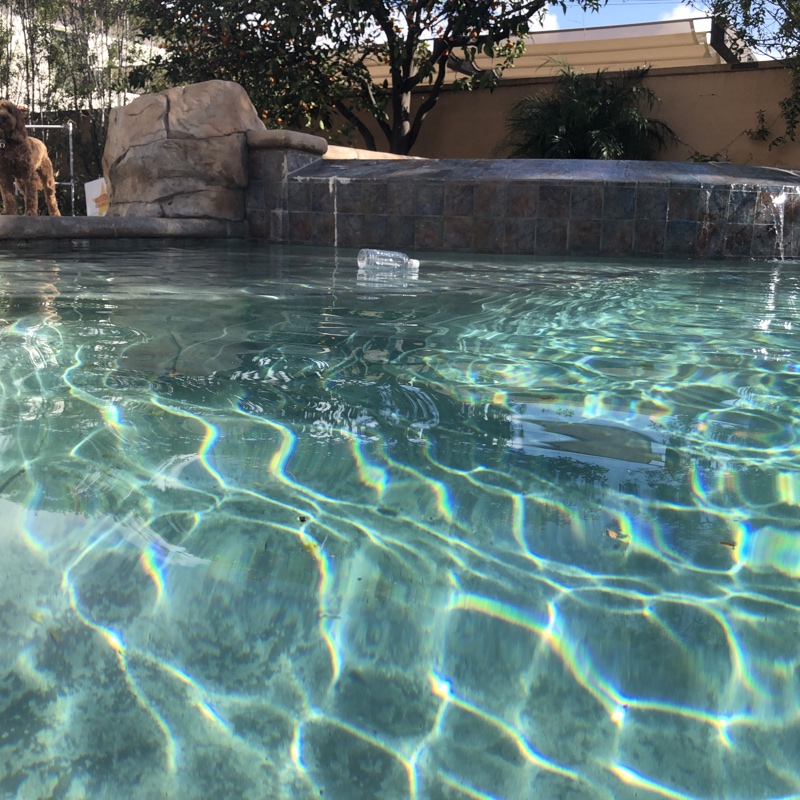Plastic Bottle: (352, 245, 423, 277)
